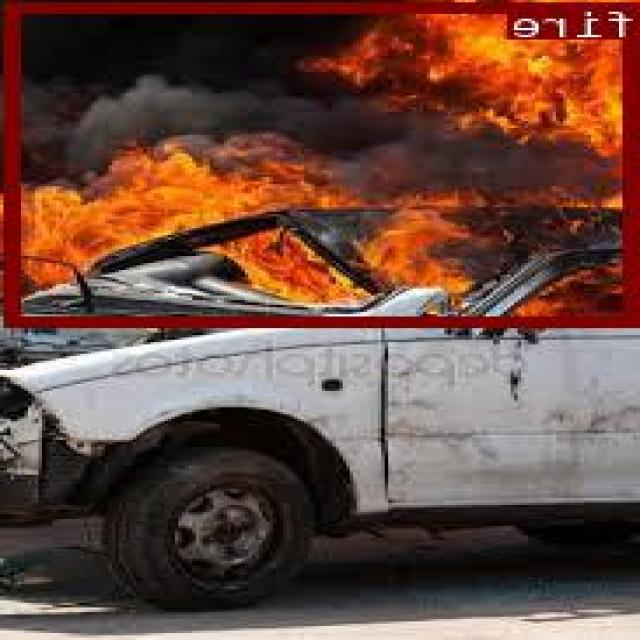fire: (11, 0, 640, 323)
